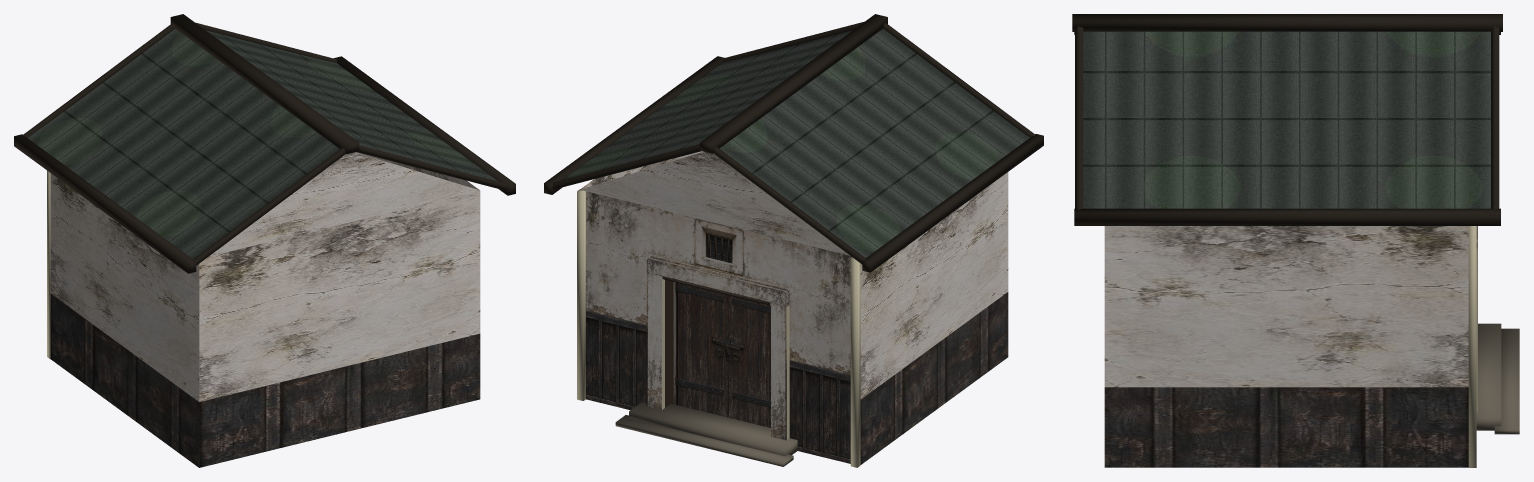
File: nyanisyarud-yokai-kura.glb
3 views of the same model, side by side, from view 1: azimuth 30°, elevation 25°; view 2: azimuth 150°, elevation 25°; view 3: azimuth 270°, elevation 25° (orthographic). The views are drawn at different scales.
Parts seen in each view (by area): view 1: Old_White_Plaster_Kura_Front_Detailed; view 2: Old_White_Plaster_Kura_Front_Detailed; view 3: Old_White_Plaster_Kura_Front_Detailed.
Part boxes in pixels (box(x1,y1,x2,y2)): Old_White_Plaster_Kura_Front_Detailed: box(14, 14, 515, 467); Old_White_Plaster_Kura_Front_Detailed: box(544, 14, 1043, 467); Old_White_Plaster_Kura_Front_Detailed: box(1072, 14, 1519, 467).
Bounding box in the file's own units: 4.43 × 3.87 × 4.28.
Materials: 1 (1 with a texture image).
